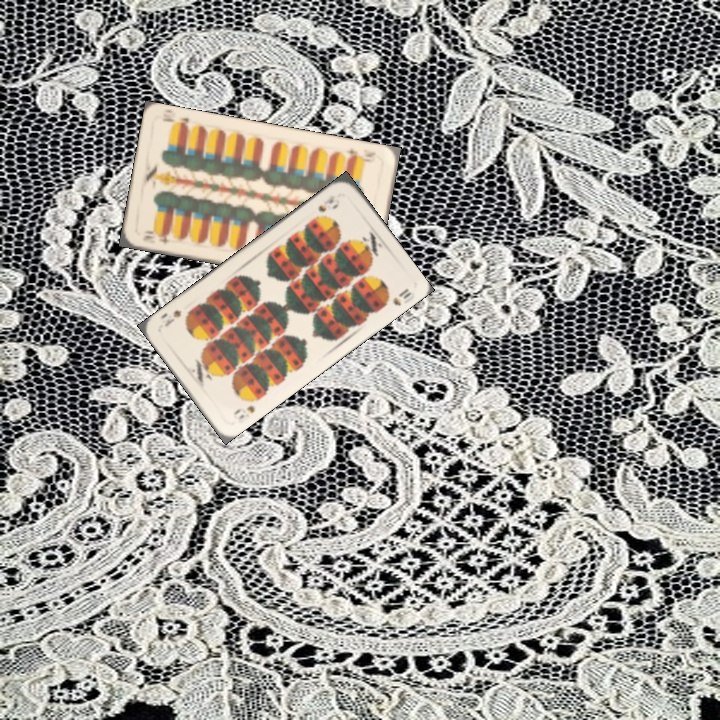E10: (139, 226, 172, 246), (343, 144, 378, 162)
S10: (229, 401, 258, 422), (314, 190, 338, 215)
